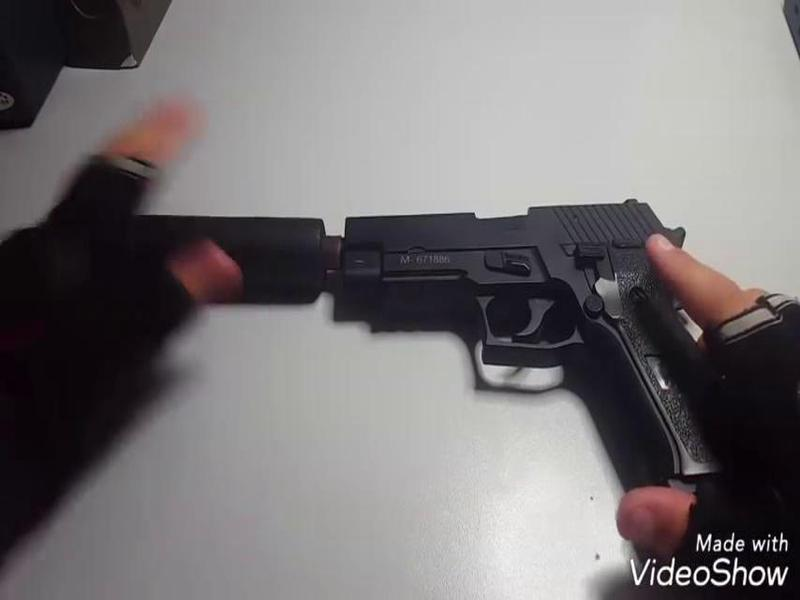Pistola: (338, 196, 741, 493)
